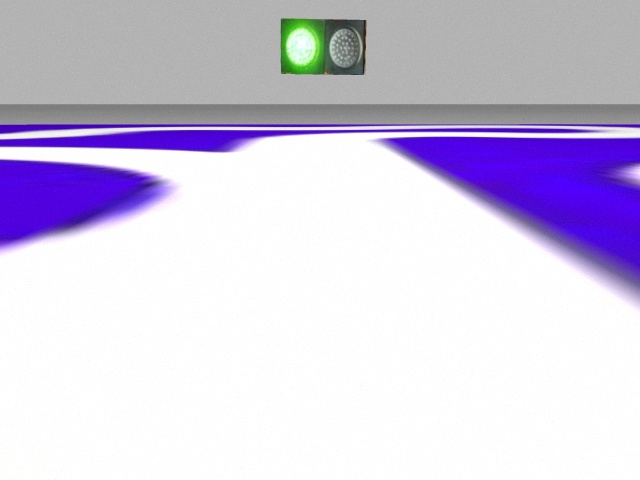green: (280, 18, 326, 74)
